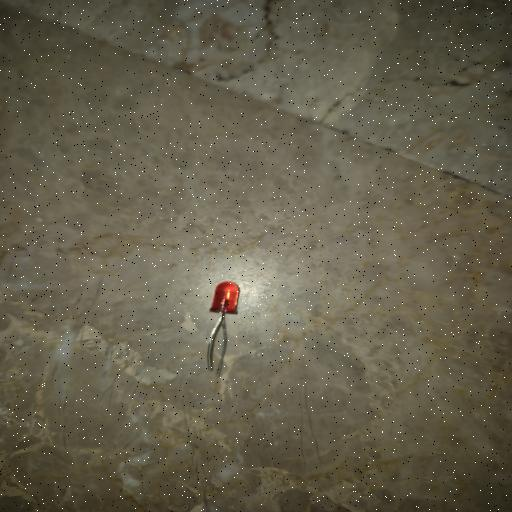led-diode: (207, 281, 240, 377)
